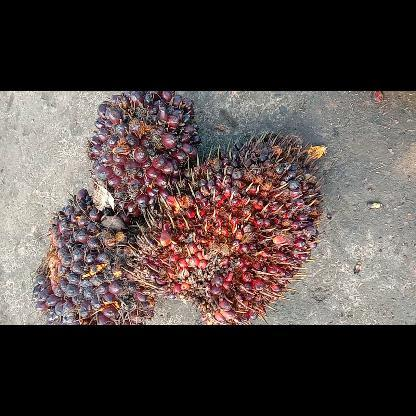Kurang masak: (28, 188, 152, 324), (88, 91, 202, 221)
TBS masak: (135, 132, 323, 324)
